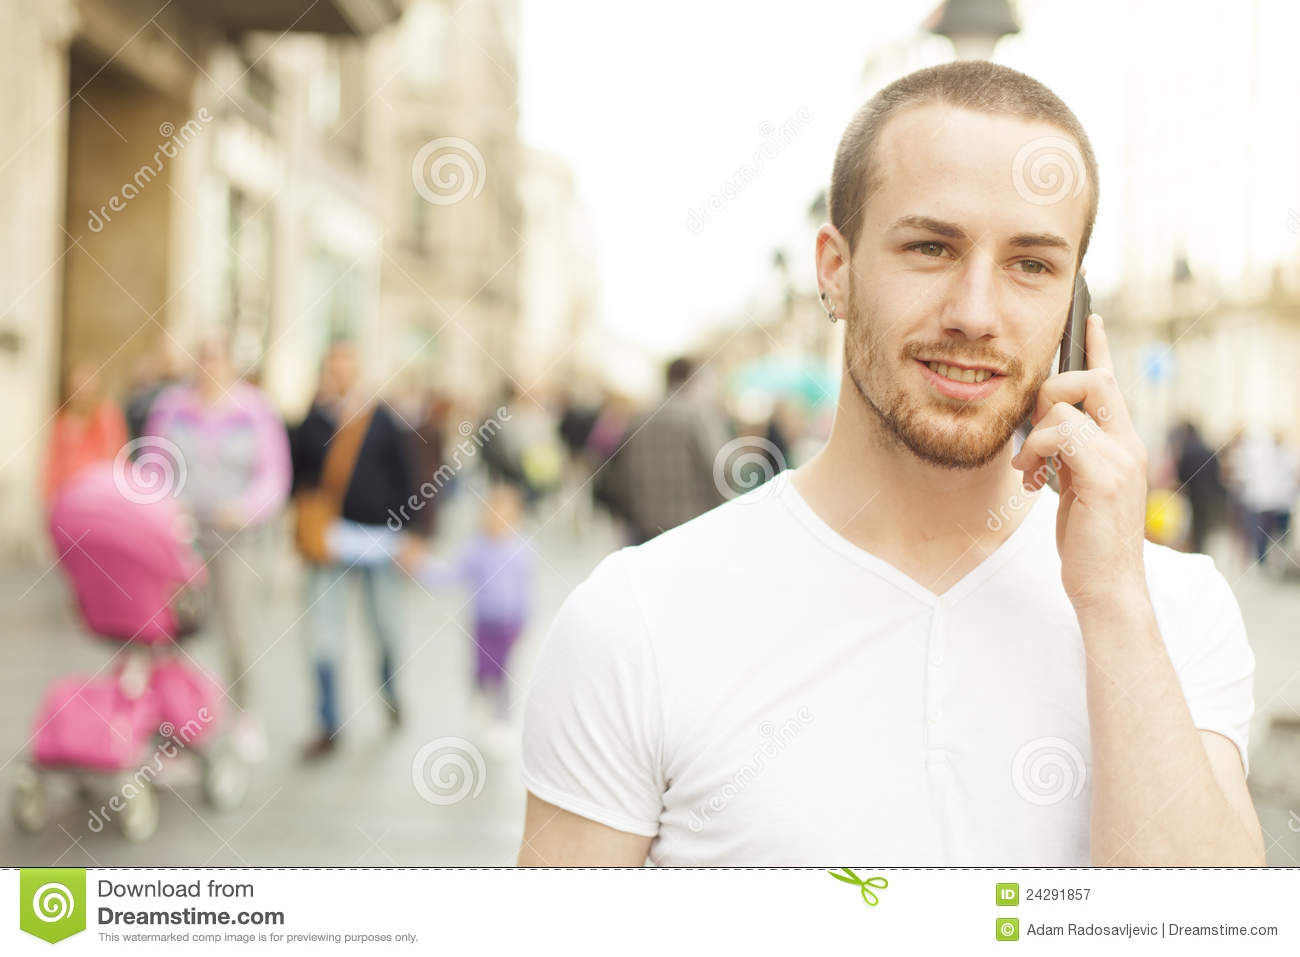phone: (1051, 274, 1105, 420)
talk: (854, 193, 1164, 632)
